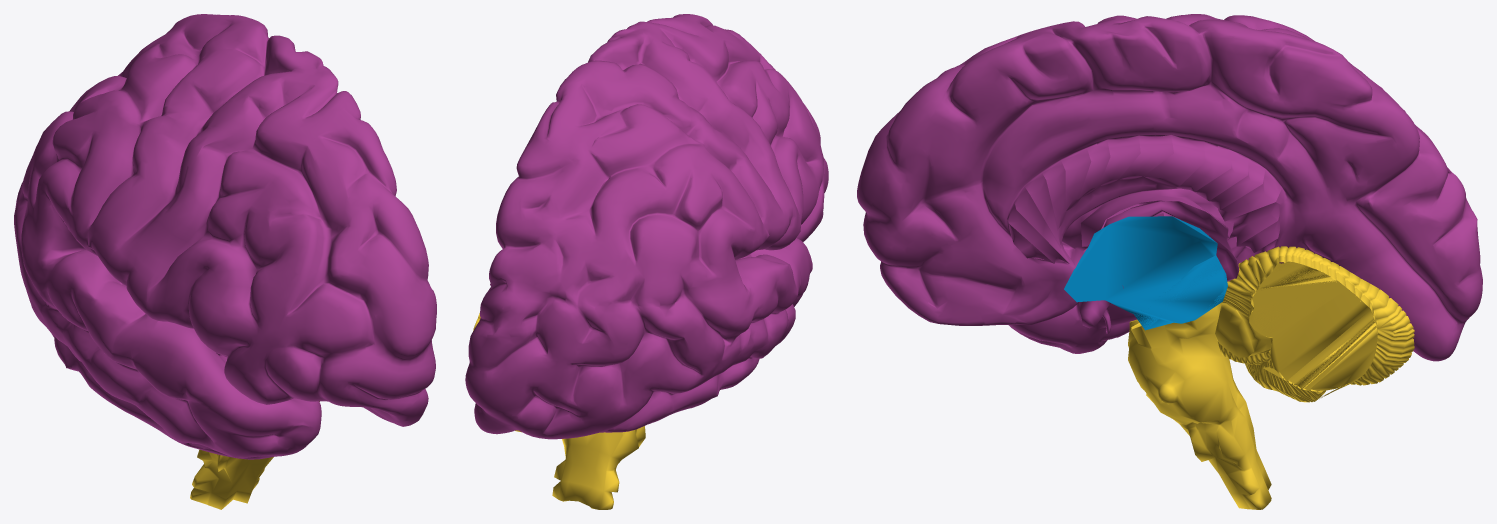
The model's file is major-parts.glb.
3 views of the same model, side by side, from view 1: azimuth 30°, elevation 25°; view 2: azimuth 150°, elevation 25°; view 3: azimuth 270°, elevation 25° (orthographic). The views are drawn at different scales.
Visible parts, largest first — view 1: Brain_Part_06, Brain_Part_02; view 2: Brain_Part_06, Brain_Part_02; view 3: Brain_Part_06, Brain_Part_02, Brain_Part_05.002.
Part boxes in pixels (<box>): Brain_Part_06: <box>14,14,436,459</box>; Brain_Part_02: <box>190,401,319,509</box>; Brain_Part_06: <box>465,14,828,439</box>; Brain_Part_02: <box>473,313,645,509</box>; Brain_Part_06: <box>857,14,1482,361</box>; Brain_Part_02: <box>1128,246,1414,509</box>; Brain_Part_05.002: <box>1064,216,1227,330</box>.
Bounding box in the file's own units: 2.24 × 4.06 × 4.73.
